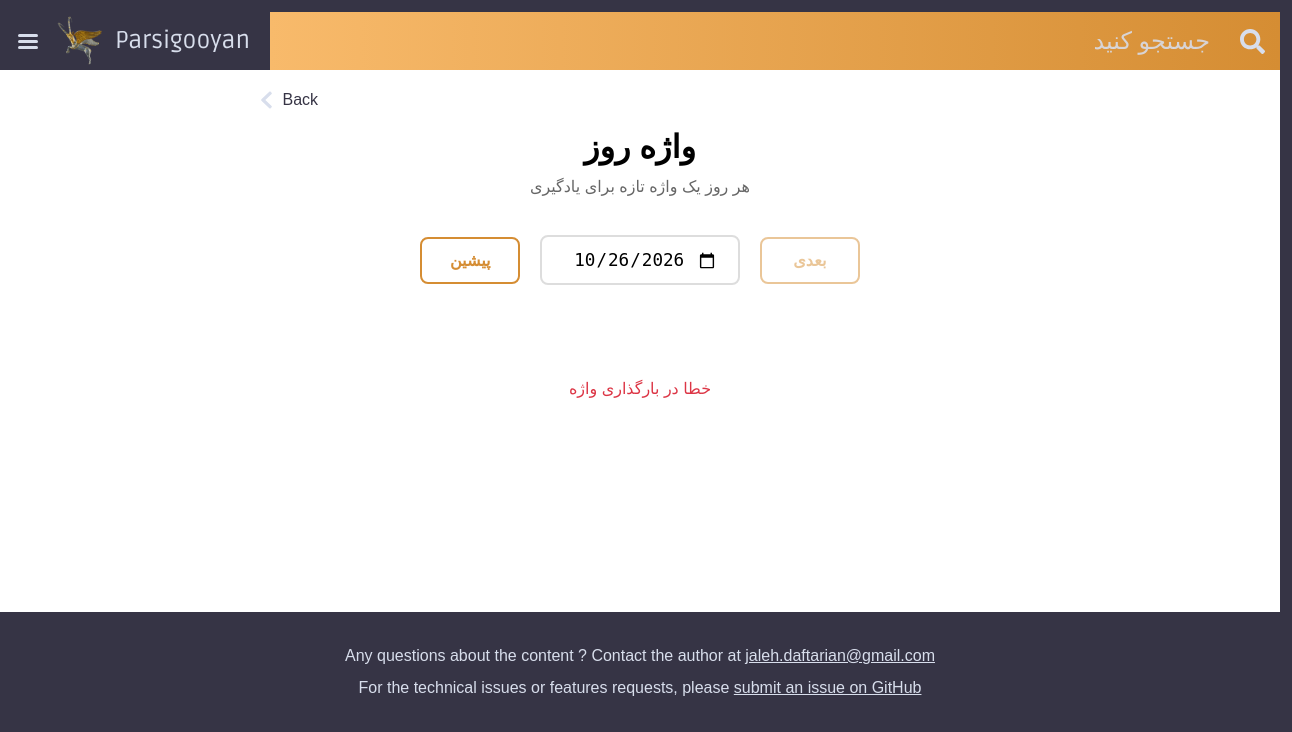
Test case: Word of the Date page › Go to today button › shows "today" button when on a past date
Click the button "پیشین" at (470, 261), box top-left (420, 237), bottom-right (520, 284)
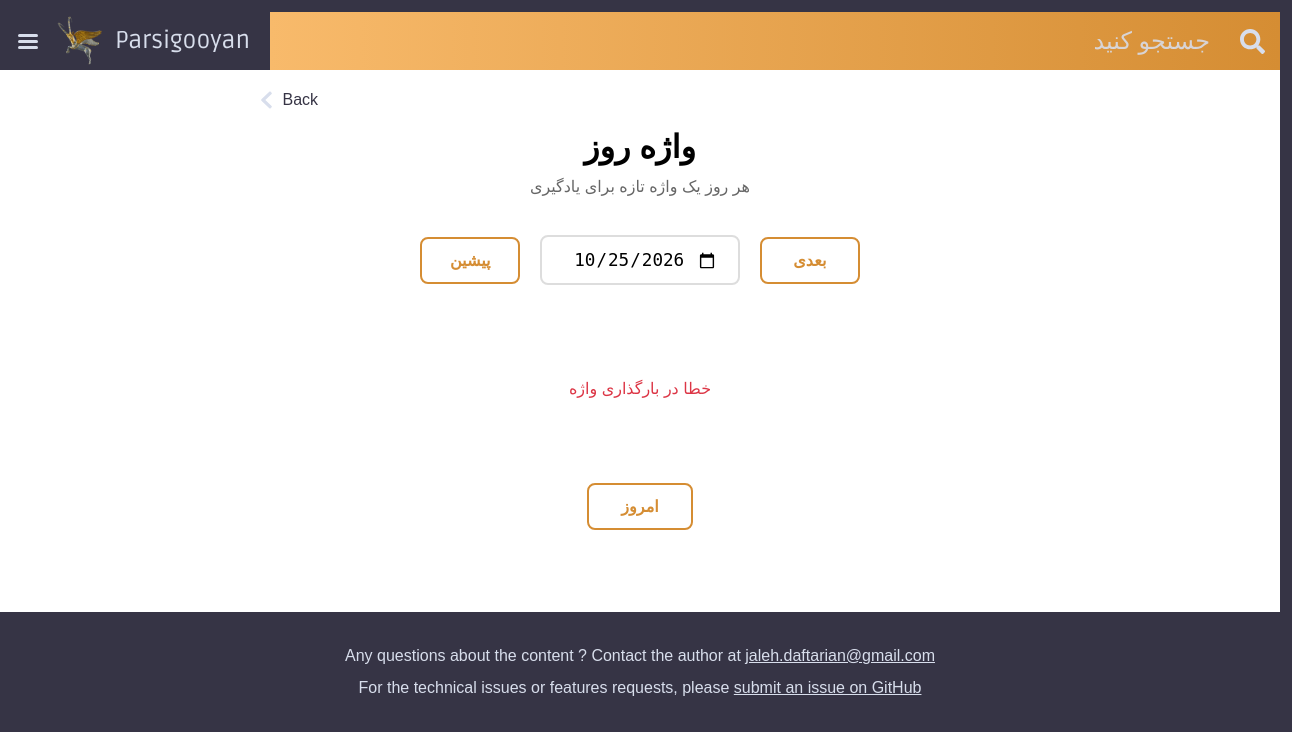
Check: the button with class "today-button" is shown, box top-left (587, 483), bottom-right (692, 530)
Check: the button "امروز" is shown, box top-left (587, 483), bottom-right (693, 530)
